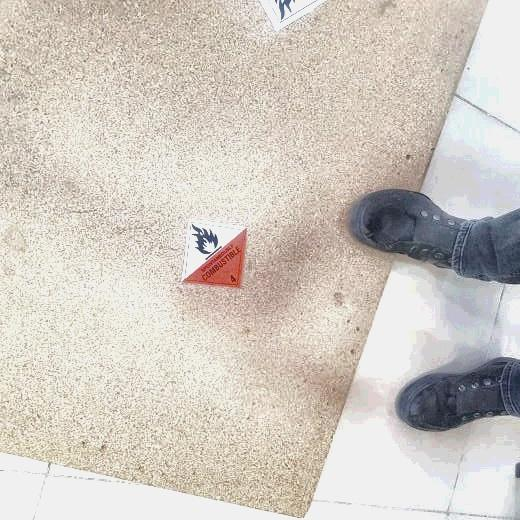spontaneously-combustible: (180, 217, 248, 288)
